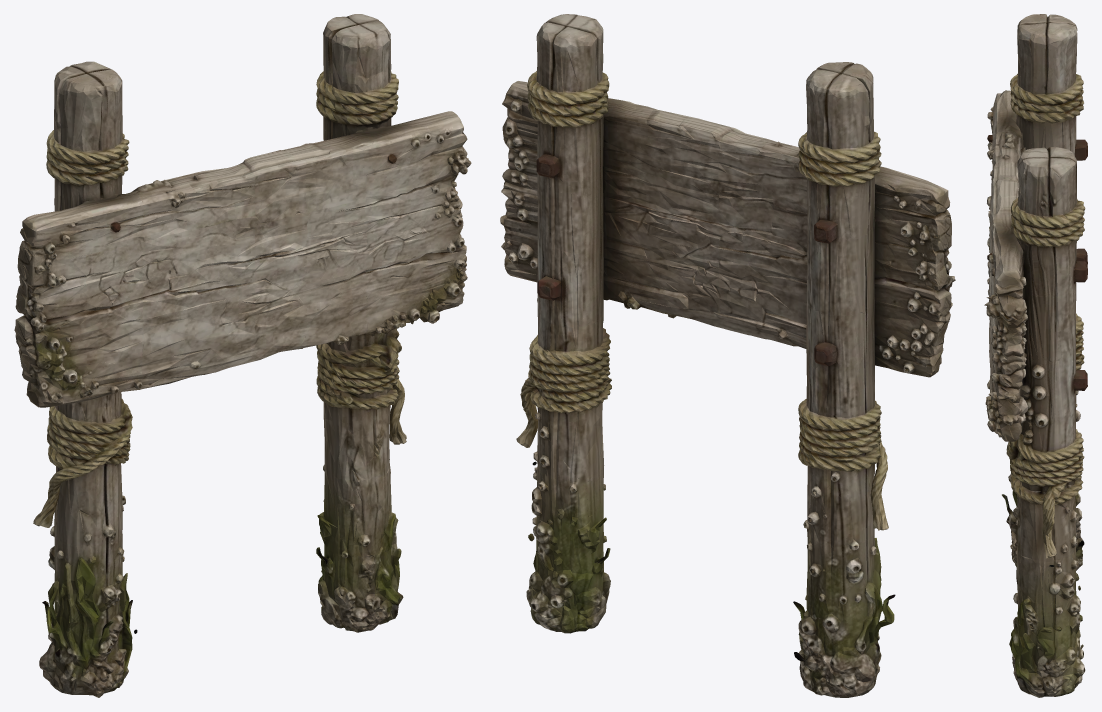
Rendered from sign.glb.
The picture shows the model from 3 angles, left to right: view 1: azimuth 30°, elevation 25°; view 2: azimuth 150°, elevation 25°; view 3: azimuth 270°, elevation 25°; orthographic projection. The views are drawn at different scales.
Parts seen in each view (by area): view 1: geometry_0; view 2: geometry_0; view 3: geometry_0.
Boxes of the visible parts, box(x1,y1,x2,y2) form: geometry_0: box(14, 14, 471, 697); geometry_0: box(500, 14, 955, 697); geometry_0: box(984, 14, 1087, 697).
Size of the model in its own units: 0.7615 by 1 by 0.1722.
Materials: 1 (1 with a texture image).
